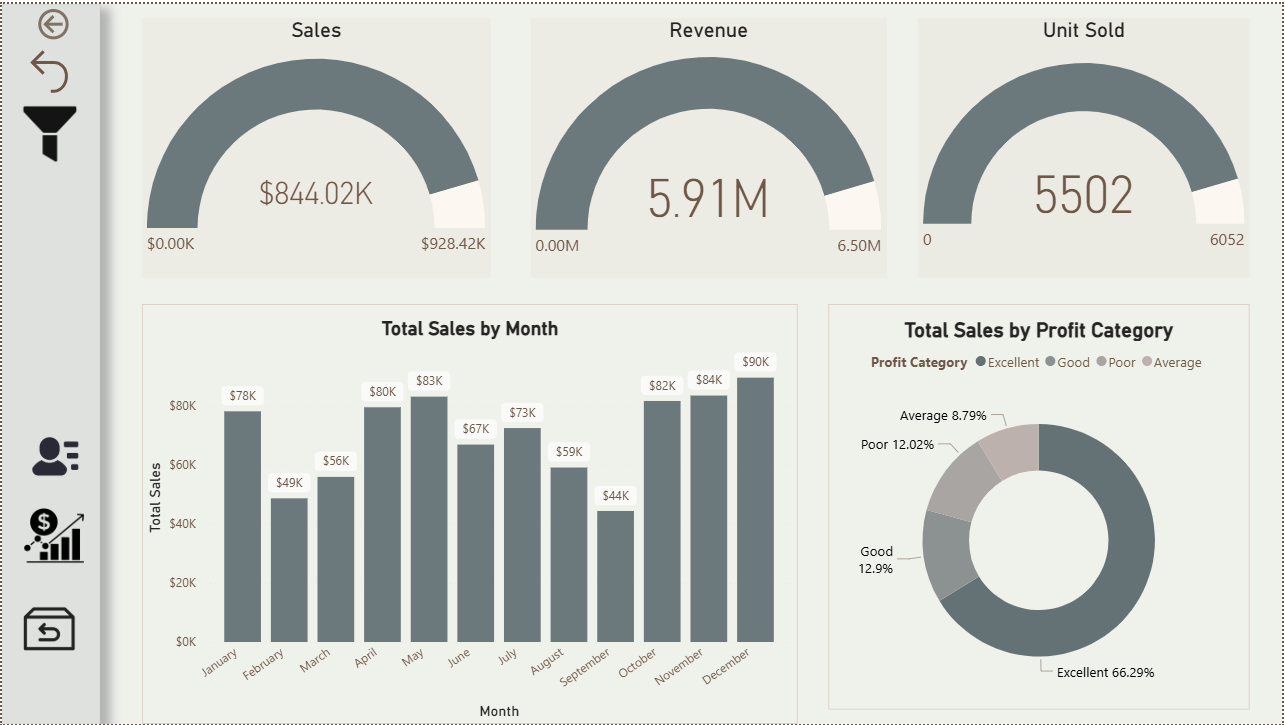

The page's visual inventory and layout, read from the dashboard file:
{"tool":"powerbi","page":{"name":"Sales Performance","canvas":[1280,720],"ordinal":2},"visuals":[{"type":"shape","box":[0,0,98.6,720],"z":0,"group":"g1"},{"type":"gauge","title":"Sales","fields":{"Y":["Measures Table.Total Sales"],"MaxValue":["Measures Table.Target Sales"]},"box":[140,14.3,348.6,260],"z":0},{"type":"gauge","title":"Revenue","fields":{"Y":["Measures Table.Total Revenue"],"MaxValue":["Measures Table.Target Rwvenu"]},"box":[528.6,14.3,355.7,260],"z":1000},{"type":"actionButton","box":[20.2,40.3,63.5,54.8],"z":1000,"group":"g1"},{"type":"gauge","title":"Unit Sold ","fields":{"Y":["Measures Table.Total Unit Sold"],"MaxValue":["Measures Table.Target Unitsold"]},"box":[915.7,14.3,331.4,260],"z":2000},{"type":"image","box":[7.1,100,81.4,60],"z":2000,"group":"g1"},{"type":"shape","box":[825.7,300,421.4,405.7],"z":3000},{"type":"image","box":[17.1,417.1,68.6,71.4],"z":3000,"group":"g1"},{"type":"donutChart","fields":{"Category":["Sales_Fact.Profit Category"],"Y":["Measures Table.Total Sales"]},"box":[826.2,313.8,421.2,392.5],"z":4000},{"type":"image","box":[21.4,498.6,61.4,65.7],"z":4000,"group":"g1"},{"type":"shape","box":[140,300,655.7,420],"z":5000},{"type":"image","box":[11.4,591.4,71.4,67.1],"z":5000,"group":"g1"},{"type":"lineStackedColumnComboChart","fields":{"Category":["Date_Dim.Date.Variation.Date Hierarchy.Month"],"Y":["Measures Table.Total Sales"]},"box":[140,313.8,656.2,406.2],"z":6000},{"type":"actionButton","box":[31.7,0,62,40.4],"z":7000},{"type":"group","id":"g1","title":"menu","box":[0,0,98.8,720],"z":8000}]}

Visuals, with their boxes on the page's 1280x720 design canvas (x1, y1, x2, y2). These are canvas units, not pixel positions in the 1285x725 screenshot, which may show the page scaled, cropped or inside an application window:
shape: BBox(0, 0, 99, 720)
"Sales" gauge: BBox(140, 14, 489, 274)
"Revenue" gauge: BBox(529, 14, 884, 274)
actionButton: BBox(20, 40, 84, 95)
"Unit Sold " gauge: BBox(916, 14, 1247, 274)
image: BBox(7, 100, 88, 160)
shape: BBox(826, 300, 1247, 706)
image: BBox(17, 417, 86, 488)
donutChart - Sales_Fact.Profit Category x Measures Table.Total Sales: BBox(826, 314, 1247, 706)
image: BBox(21, 499, 83, 564)
shape: BBox(140, 300, 796, 720)
image: BBox(11, 591, 83, 658)
lineStackedColumnComboChart - Date_Dim.Date.Variation.Date Hierarchy.Month x Measures Table.Total Sales: BBox(140, 314, 796, 720)
actionButton: BBox(32, 0, 94, 40)
"menu" group: BBox(0, 0, 99, 720)
